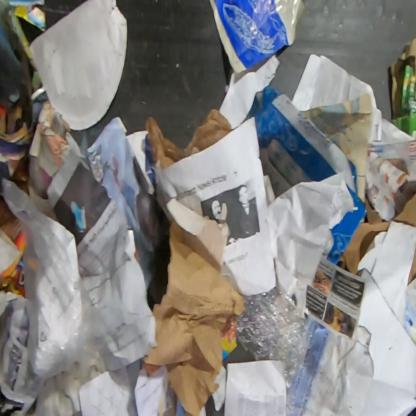cardboard: (240, 84, 368, 265), (140, 216, 245, 415), (28, 0, 128, 131), (165, 195, 231, 272), (336, 195, 390, 274), (390, 35, 415, 141), (390, 190, 415, 229), (407, 245, 415, 286)
soft_plastic: (1, 175, 109, 395), (234, 286, 316, 392), (145, 107, 233, 169)
